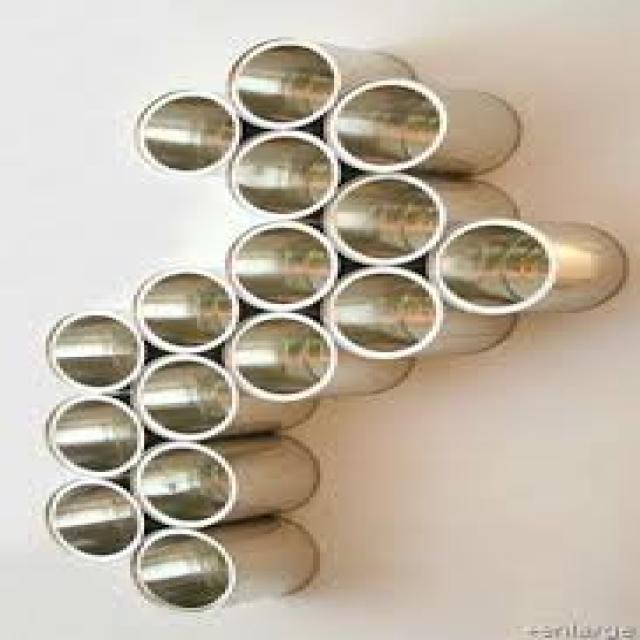metal: (418, 214, 626, 315), (317, 76, 521, 177), (123, 511, 324, 610), (316, 170, 517, 265), (313, 265, 517, 357), (225, 37, 415, 131), (218, 311, 415, 398), (123, 440, 320, 525), (123, 353, 313, 438), (218, 219, 359, 313), (127, 265, 260, 352), (222, 134, 355, 217), (130, 88, 257, 173), (42, 309, 165, 392), (42, 394, 162, 479), (46, 477, 162, 562)
